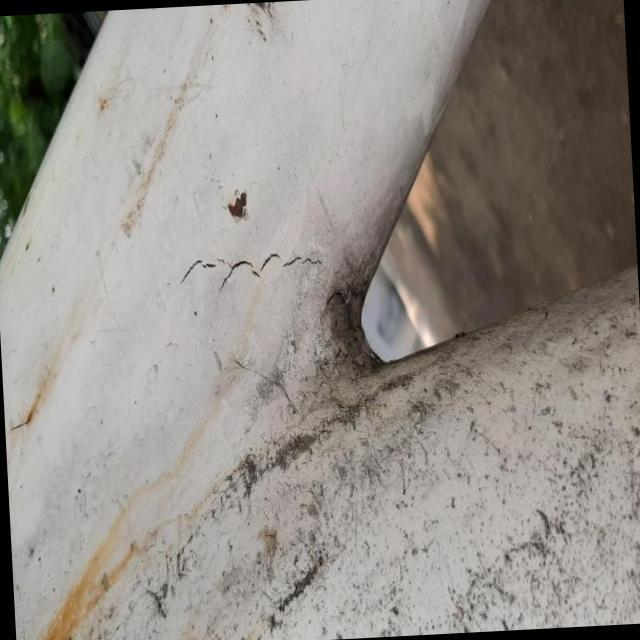defect: (174, 242, 331, 300)
